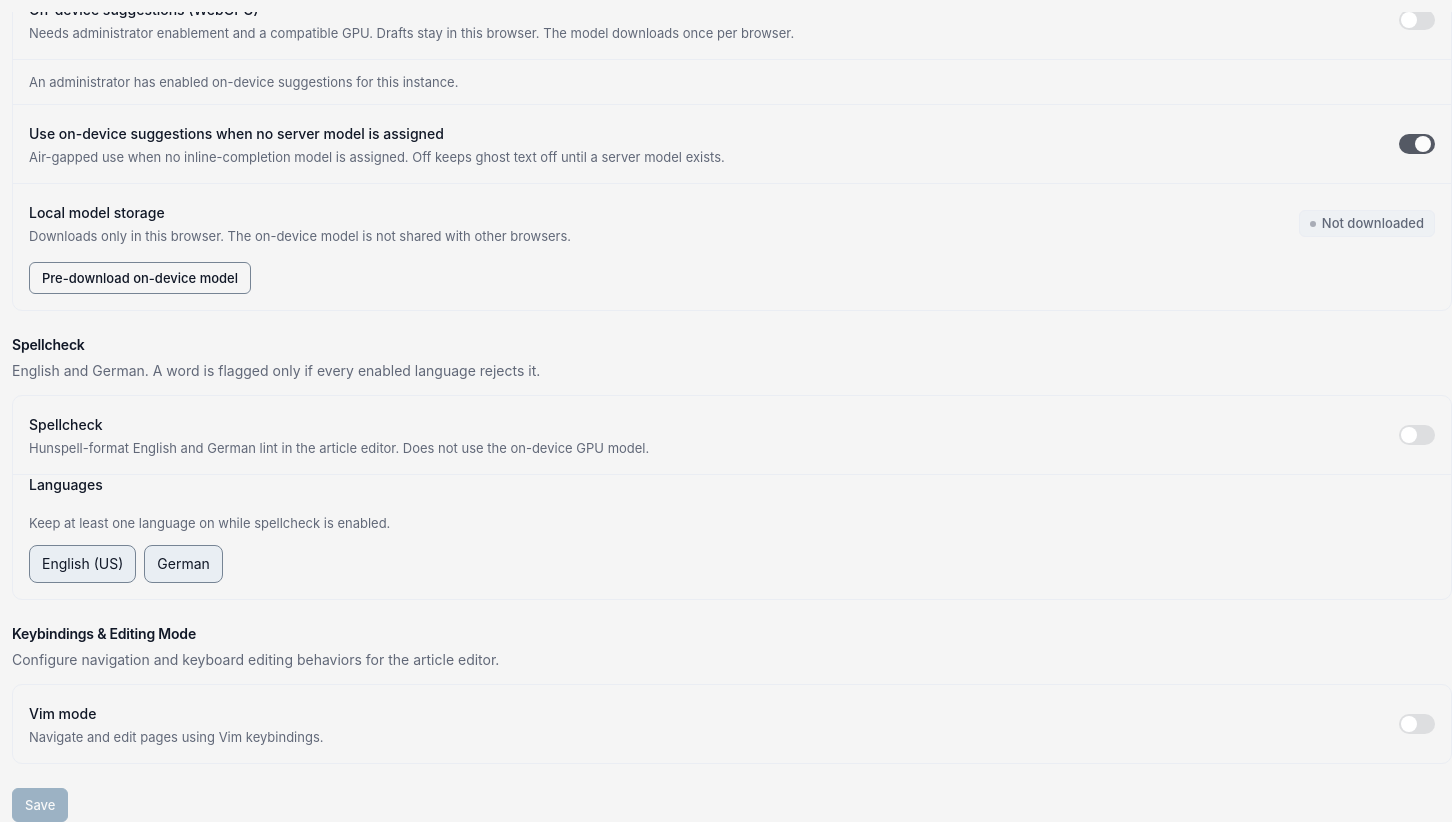
Test case: EditorPreferencesTab on-device shells (#1418) › updates progress and transitions to downloaded when Pre-download succeeds
(page scrolled)
Click the button "Pre-download on-device model" at (140, 278), box [29,262,251,294]
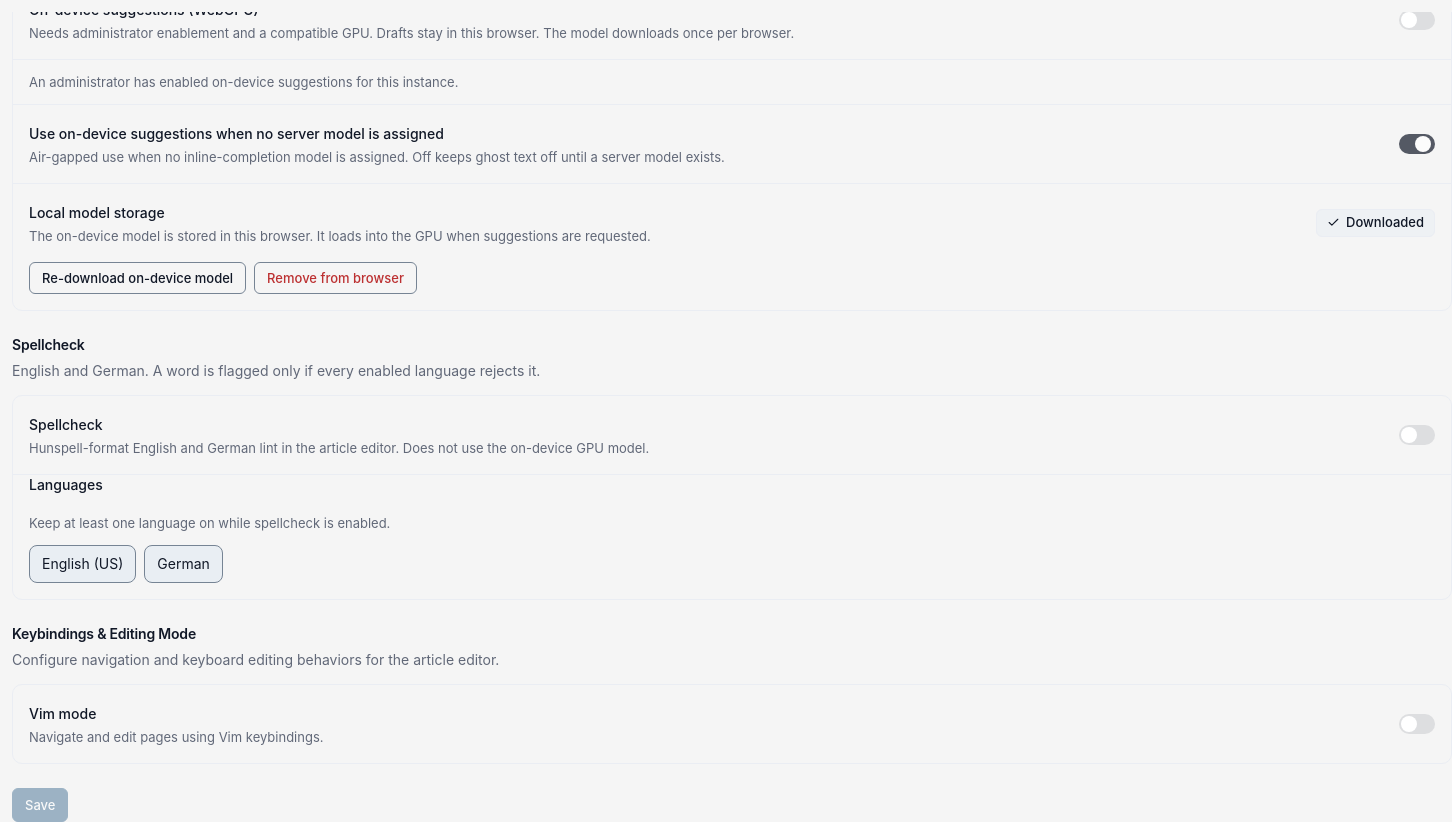
expect the element with test id "client-inference-status-downloaded" is shown: met, box [1316,209,1435,237]
